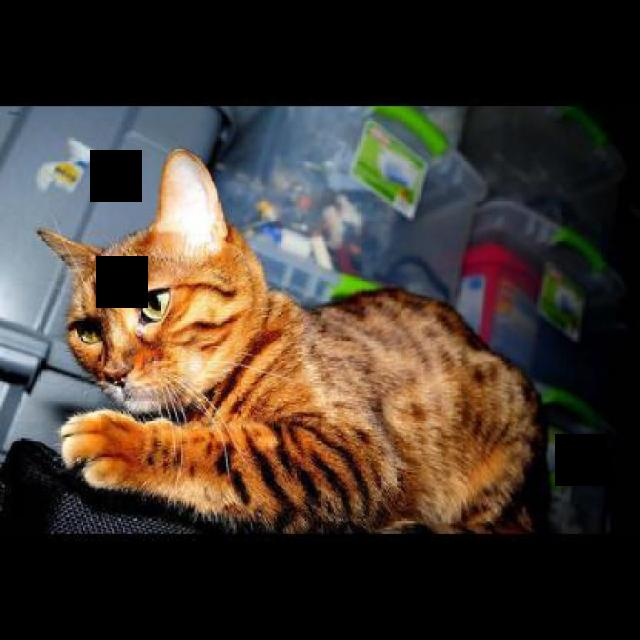unauthorized: (35, 147, 551, 536)
